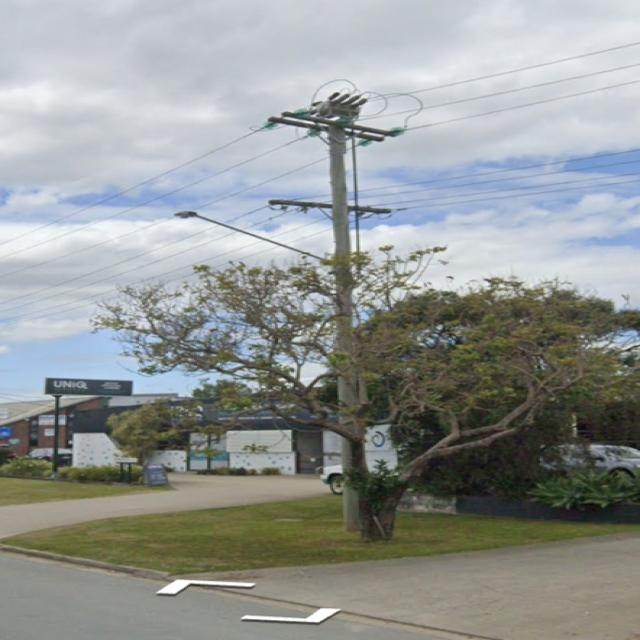HV-switch: (308, 93, 371, 122)
HV-transmission: (266, 110, 403, 146)
crossarm: (268, 111, 392, 143), (268, 198, 390, 214)
streetlight: (175, 210, 336, 264)
timber-pole: (328, 121, 369, 532)
